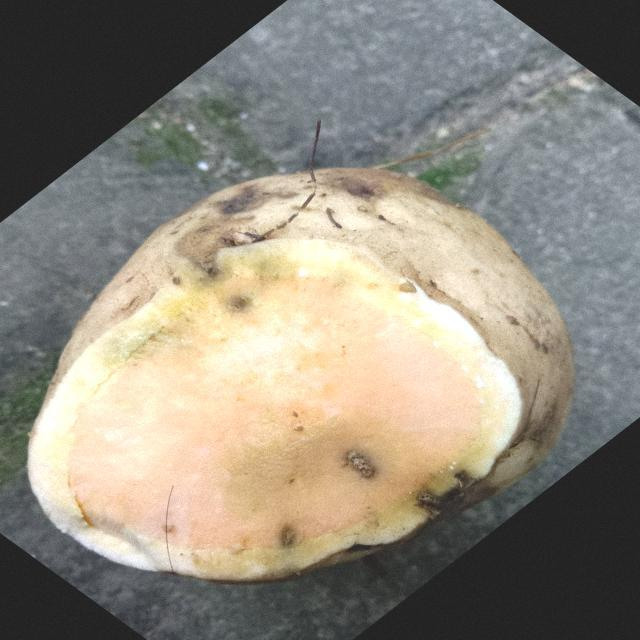Sick Sweet Potato_Tuber Rot: (28, 240, 522, 580)
